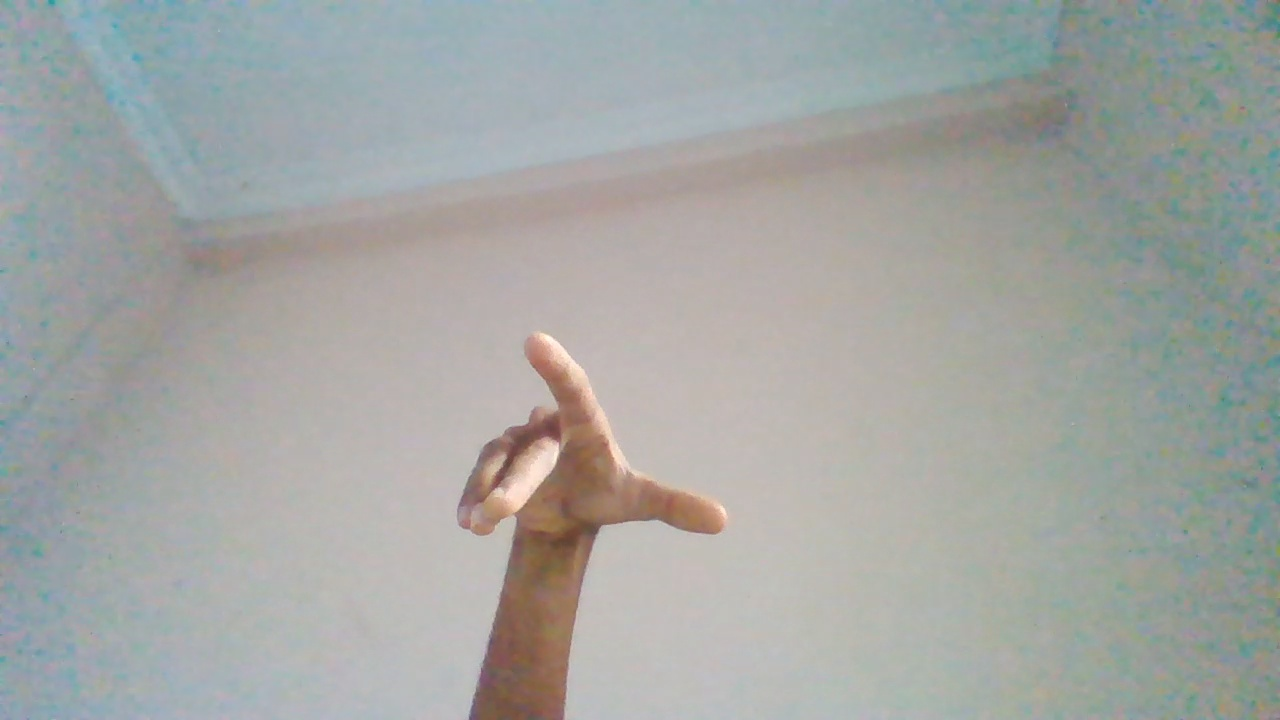ke: (457, 332, 729, 689)
